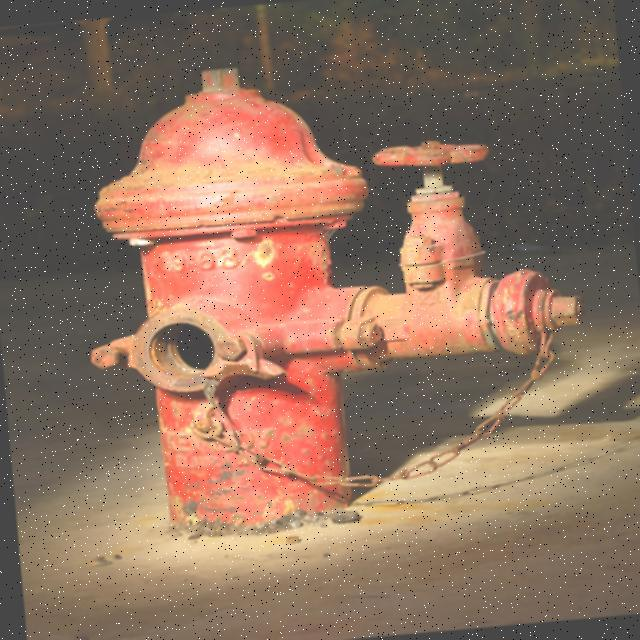fire_hydrant: (58, 27, 574, 549)
